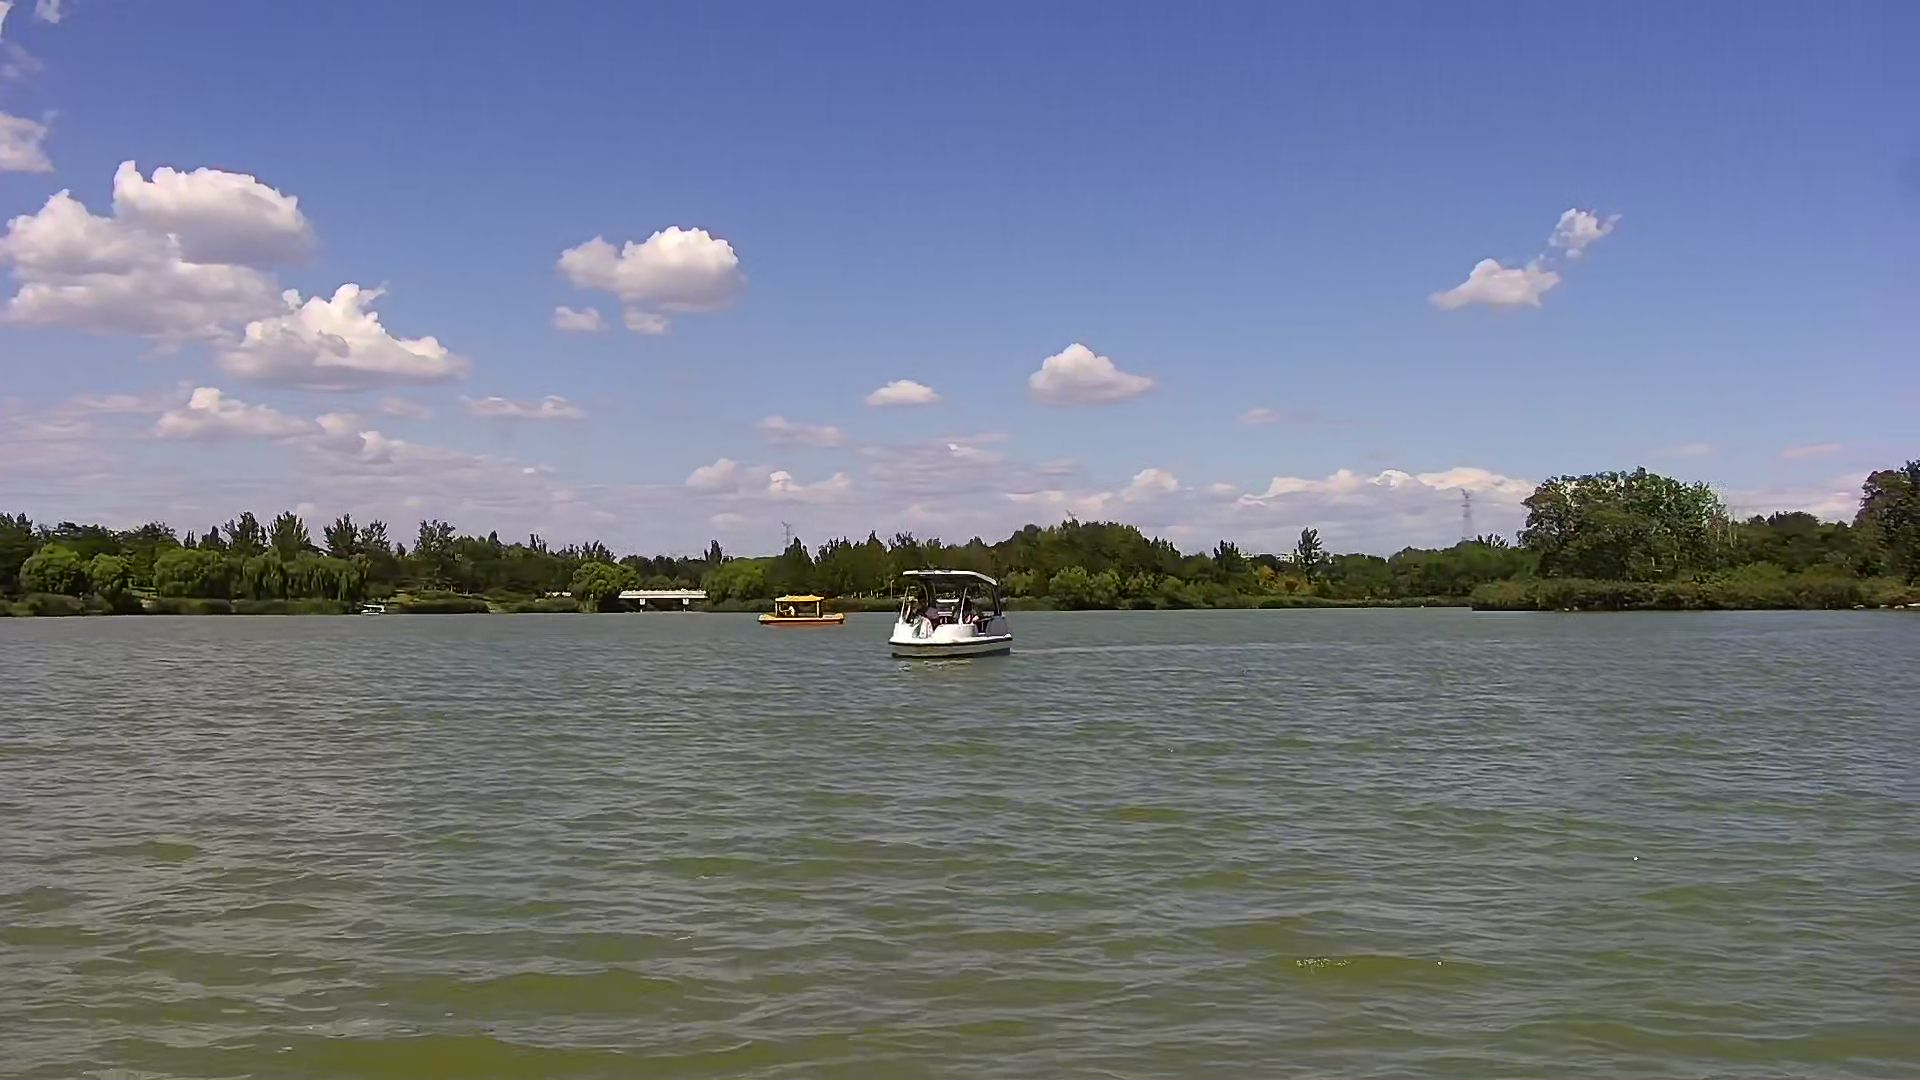boat: (885, 560, 1010, 671), (756, 589, 840, 626)
bridge: (626, 587, 705, 611)
